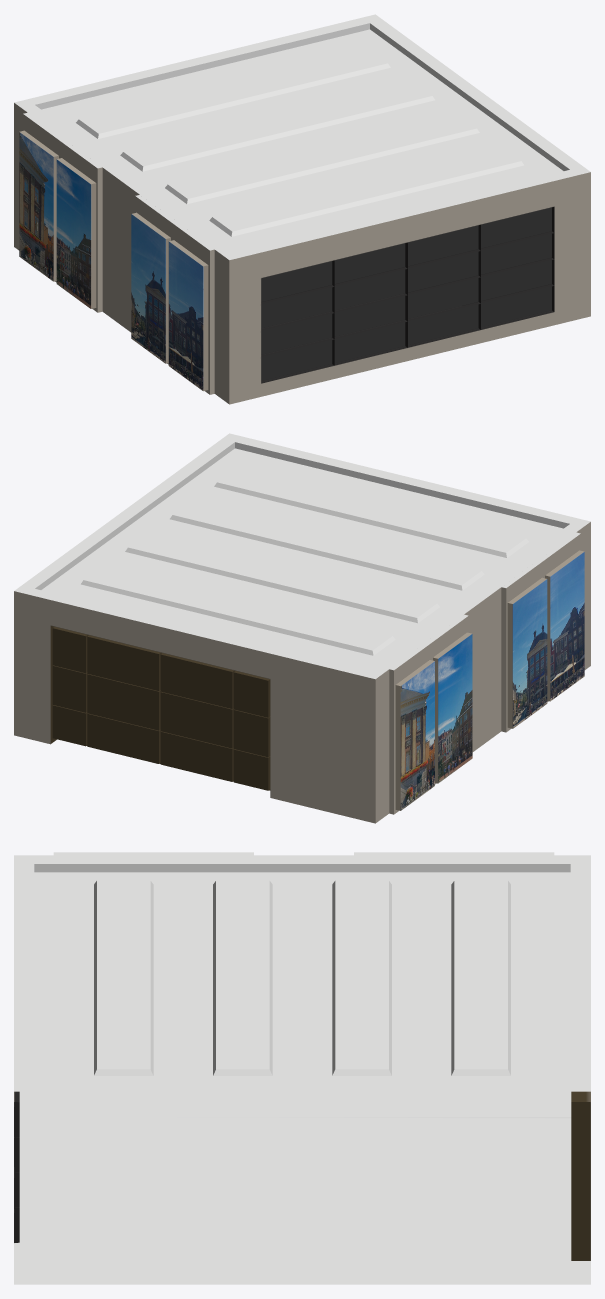
Rendered from officeroom2.FBX.
3 renders of one model, top to bottom at view 1: azimuth 30°, elevation 25°; view 2: azimuth 150°, elevation 25°; view 3: azimuth 270°, elevation 25°, orthographic. The views are drawn at different scales.
Parts seen in each view (by area): view 1: Office_Roo; view 2: Office_Roo; view 3: Office_Roo.
Boxes of the visible parts, x1,y1,x2,y2 form: Office_Roo: (14, 14, 590, 404); Office_Roo: (14, 433, 590, 823); Office_Roo: (14, 852, 590, 1284).
Size of the model in its own units: 2061 by 765 by 2070.
1 material, 1 textured.
